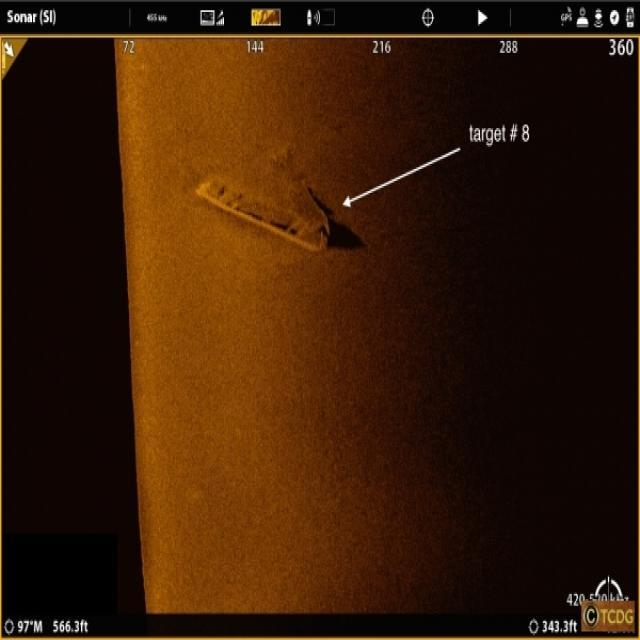shipwreck: (195, 152, 333, 256)
